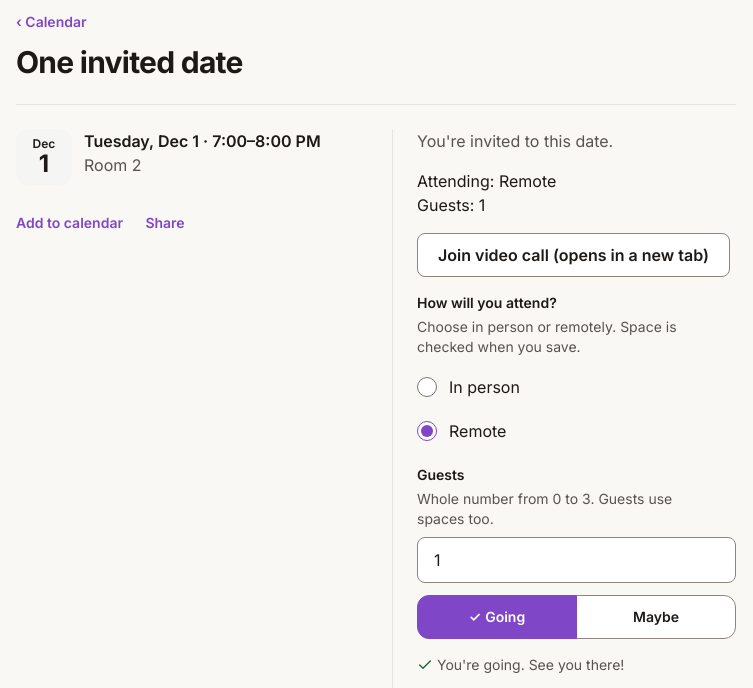
Test: clears all prior date/video data on mutation 403 without an ordinary RSVP retry
The image size is (753, 688).
Click the button "Going": (497, 617) [417, 595, 577, 639]
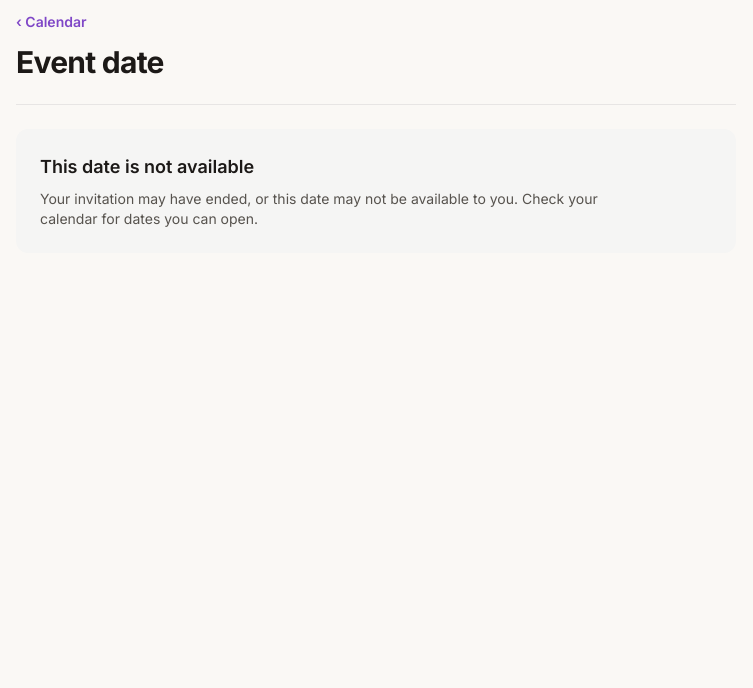
Expected: the text "This date is not available" is shown, [40, 156, 254, 177]
Expected: the heading "One invited date" is gone
Expected: the link "Join video call" is gone
